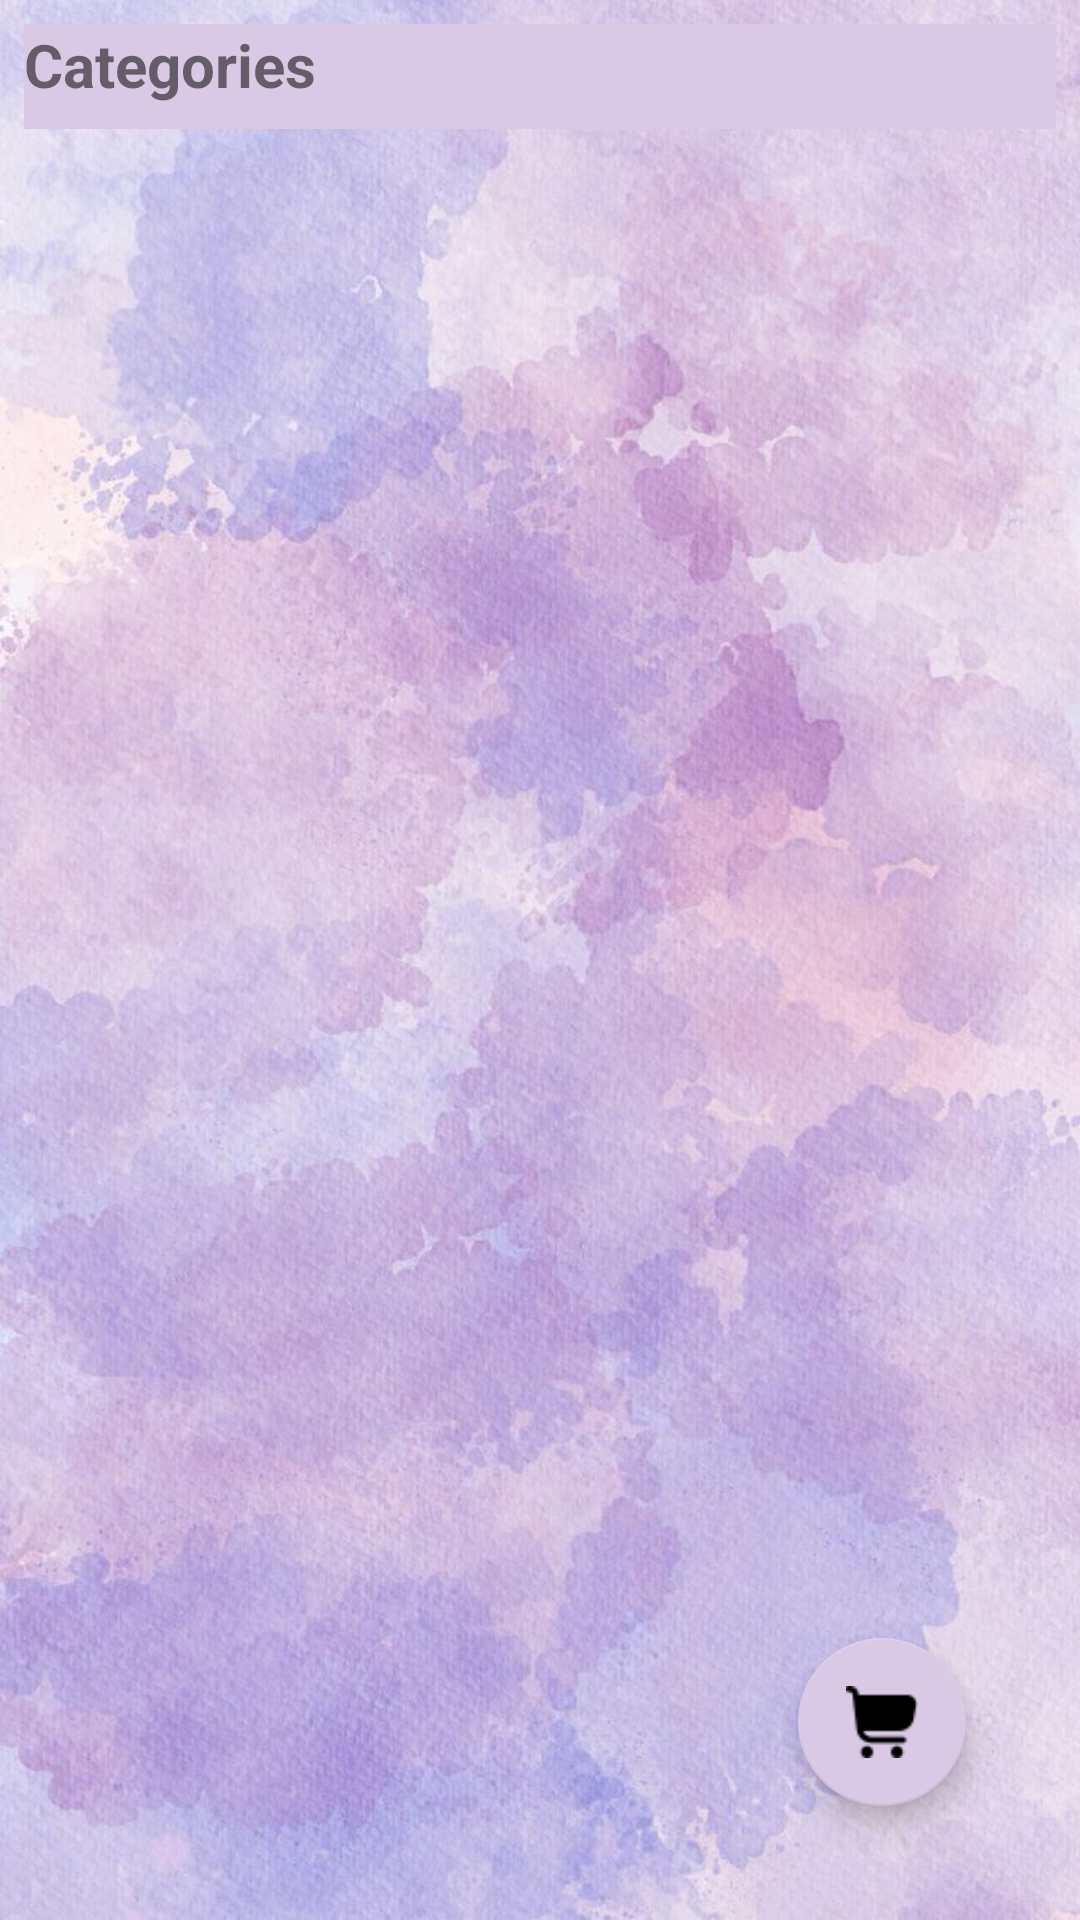

Where to tap for icons on this 1080 × 1920 app screen, as (x=x, y=y):
Cart: (x=882, y=1722)
